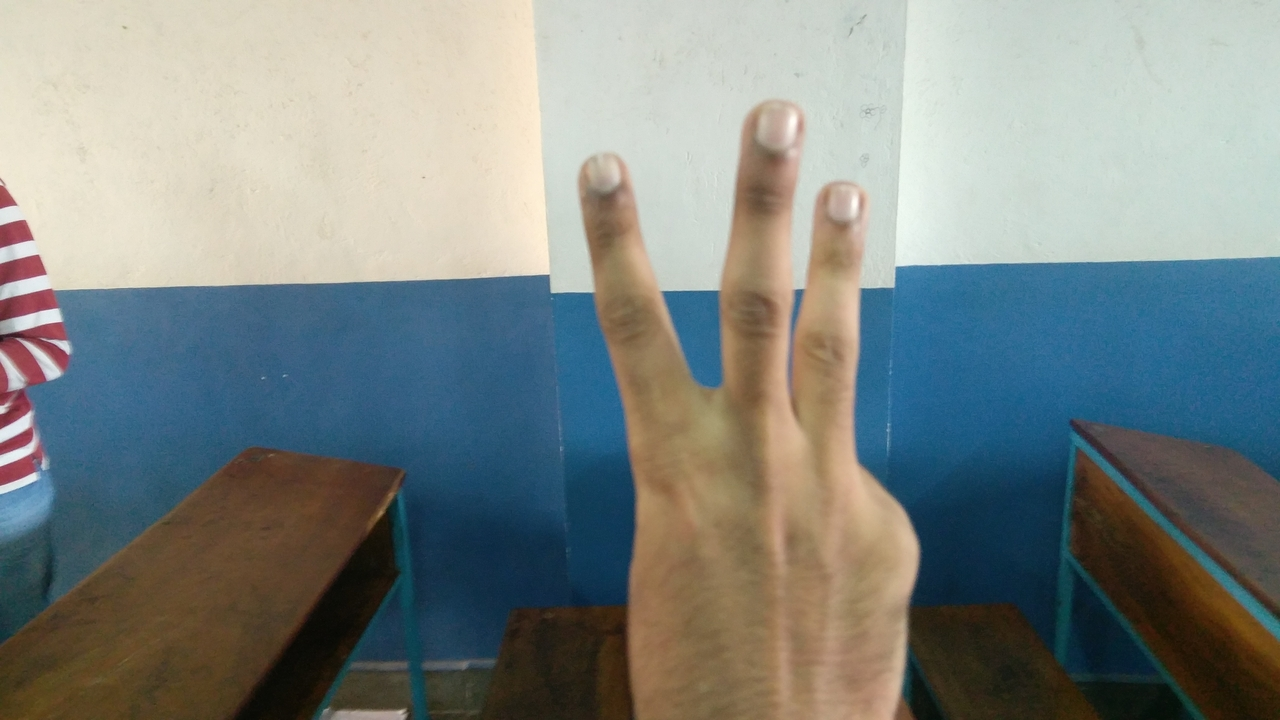fingertip: (738, 98, 814, 158), (570, 150, 638, 208), (812, 176, 874, 234)
